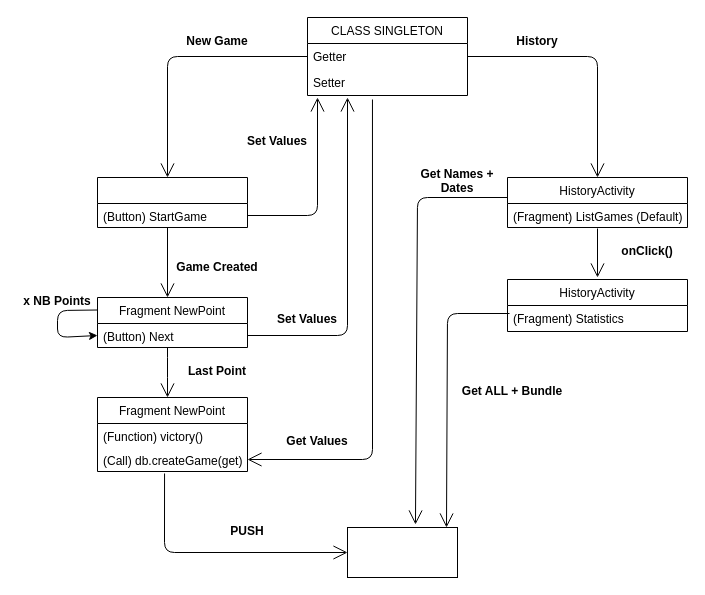
Some shapes in this 705 by 595 pixel diagram are drawn without their labels. The shapes that lost their labels are listed below. From the top down, each one's box as (x1, y1, x2, y2) in pixels, then its label:
(96, 176, 248, 228): Fragment NewGame
(346, 526, 458, 578): BDD (SQLite)
